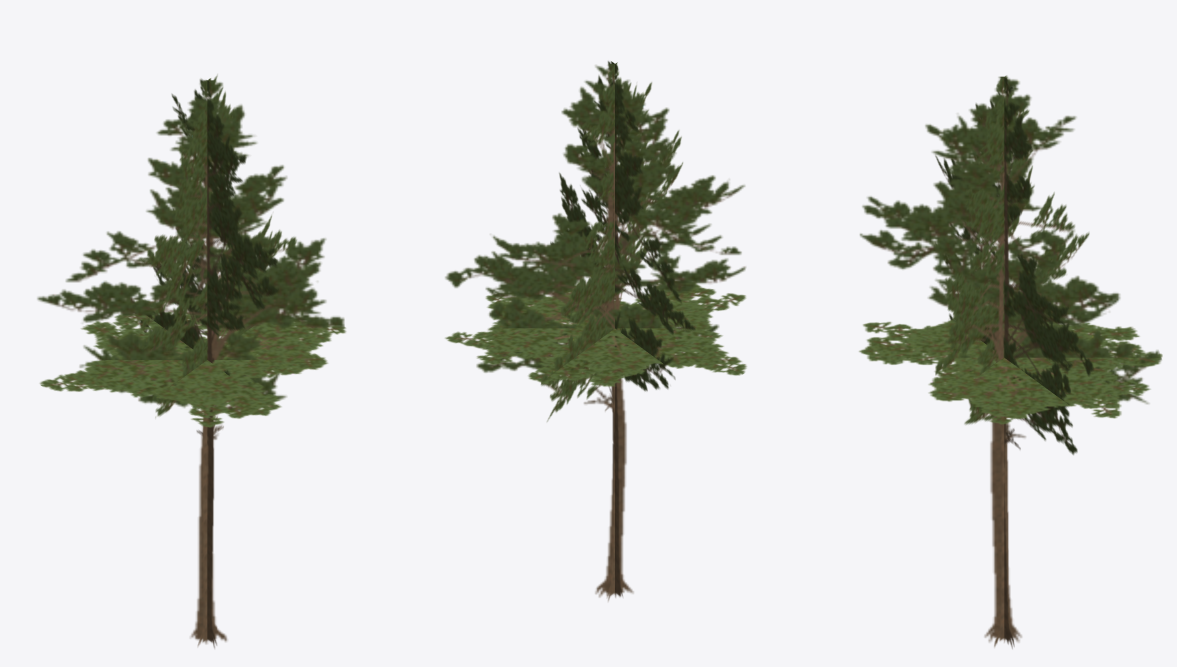
File: pine_pine_large_1_billboard.gltf
3 renders of one model, left to right at view 1: azimuth 30°, elevation 25°; view 2: azimuth 150°, elevation 25°; view 3: azimuth 270°, elevation 25°, orthographic. The views are drawn at different scales.
Parts seen in each view (by area): view 1: Pine_large_1_Billboard_LOD3_Pine_large_1_Billboard_Mat_0; view 2: Pine_large_1_Billboard_LOD3_Pine_large_1_Billboard_Mat_0; view 3: Pine_large_1_Billboard_LOD3_Pine_large_1_Billboard_Mat_0.
Part boxes in pixels (x1,y1,x2,y2): Pine_large_1_Billboard_LOD3_Pine_large_1_Billboard_Mat_0: (37,74,345,648); Pine_large_1_Billboard_LOD3_Pine_large_1_Billboard_Mat_0: (445,61,746,601); Pine_large_1_Billboard_LOD3_Pine_large_1_Billboard_Mat_0: (859,75,1162,648).
Bounding box in the file's own units: 16.85 × 31.5 × 15.4.
Materials: 1 (1 with a texture image).
